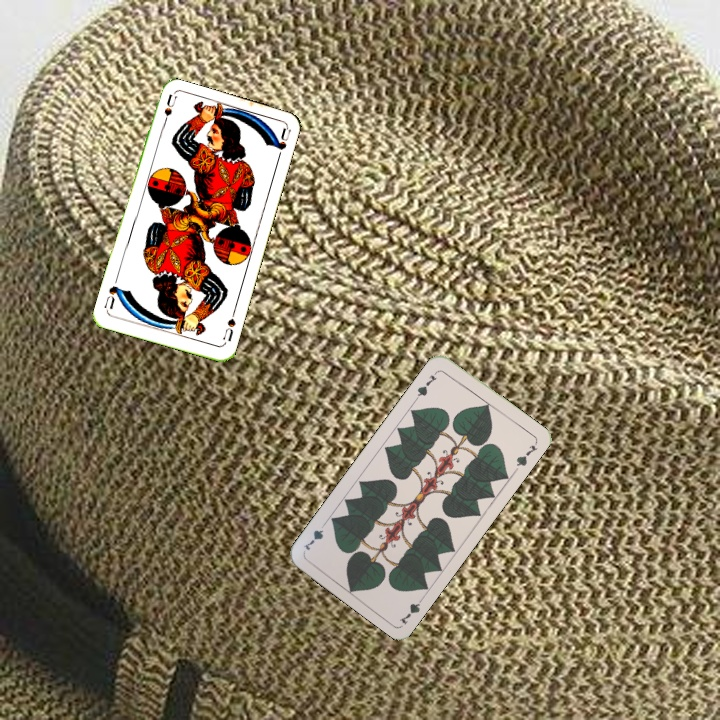G7: (395, 591, 427, 627), (412, 367, 441, 402)
SU: (157, 92, 179, 132), (219, 307, 238, 344)
